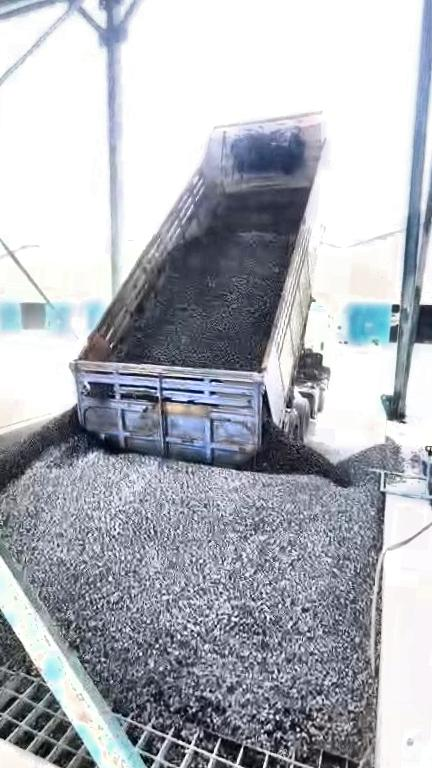gravel: (0, 412, 405, 768), (120, 193, 306, 370), (0, 532, 14, 657)
sand: (0, 382, 29, 443)
